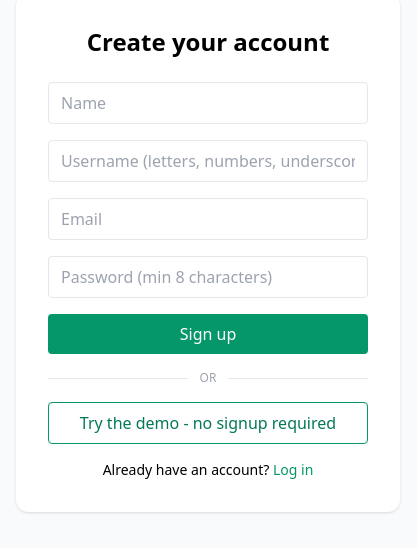
it: SignupPage › shows an error when the username is already taken
The width and height of the screenshot is (417, 548).
In the field with placeholder "Name": [208, 103] box left=48, top=82, right=368, bottom=124, type "Alice"
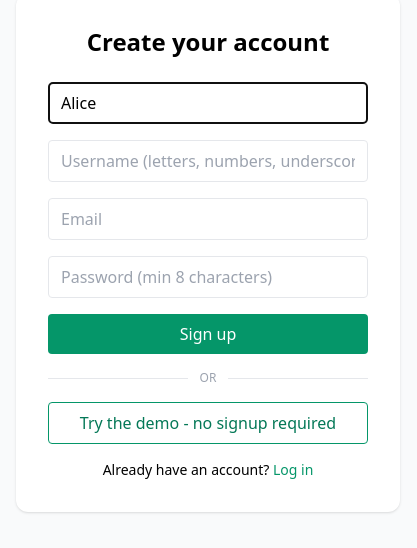
In the field with placeholder "Username (letters, numbers, underscores)": [208, 161] box left=48, top=140, right=368, bottom=182, type "bob"
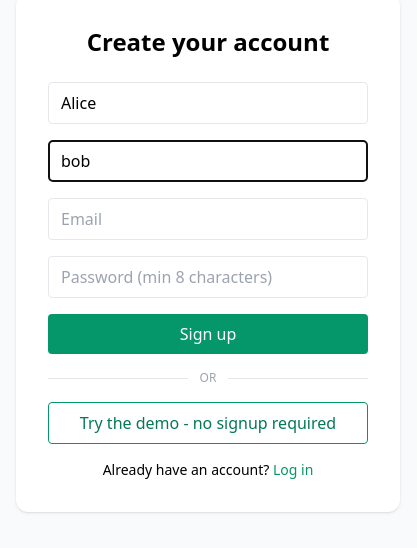
In the field with placeholder "Email": [208, 219] box left=48, top=198, right=368, bottom=240, type "alice@example.com"
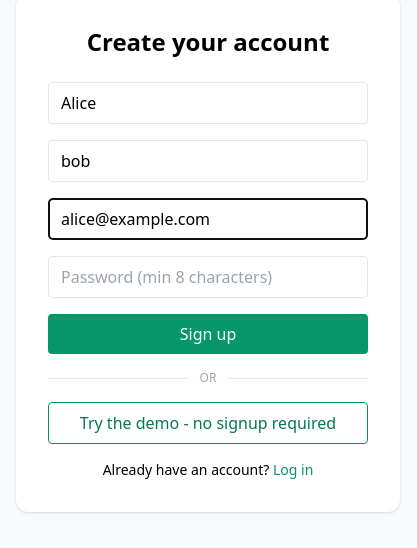
In the password field with placeholder "Password (min 8 characters)": [208, 277] box left=48, top=256, right=368, bottom=298, type "password123"
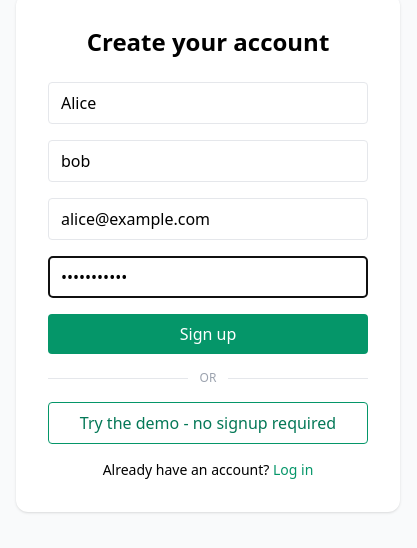
Click the button "Sign up": [208, 334] box left=48, top=314, right=368, bottom=354
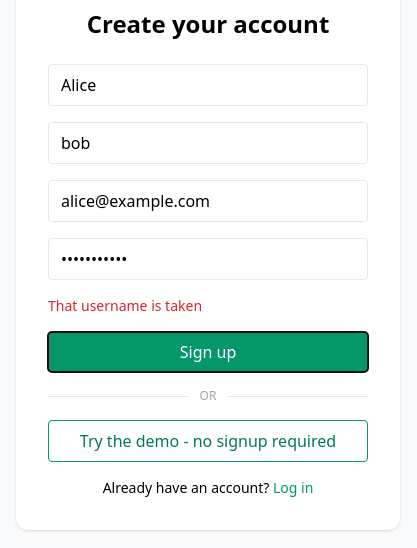
Expected: the text "That username is taken" is shown, left=48, top=296, right=202, bottom=315
